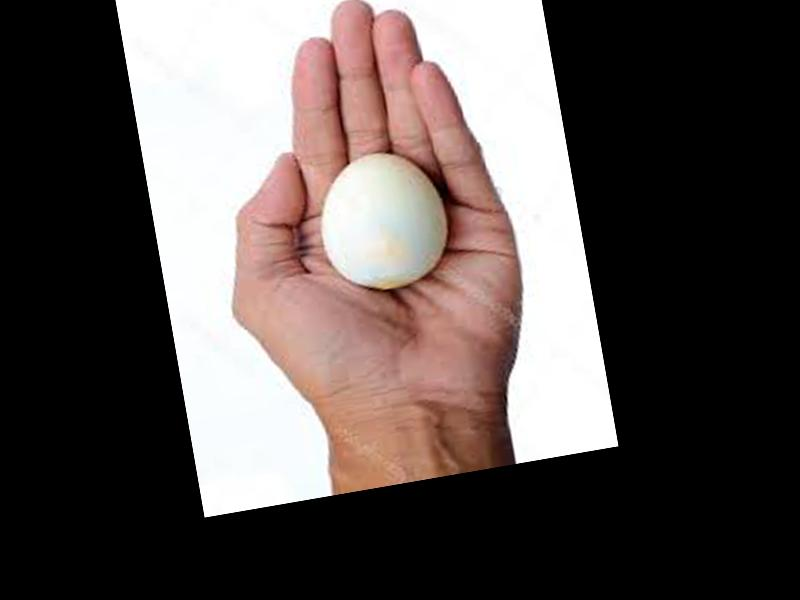Eggs: (312, 141, 453, 297)
